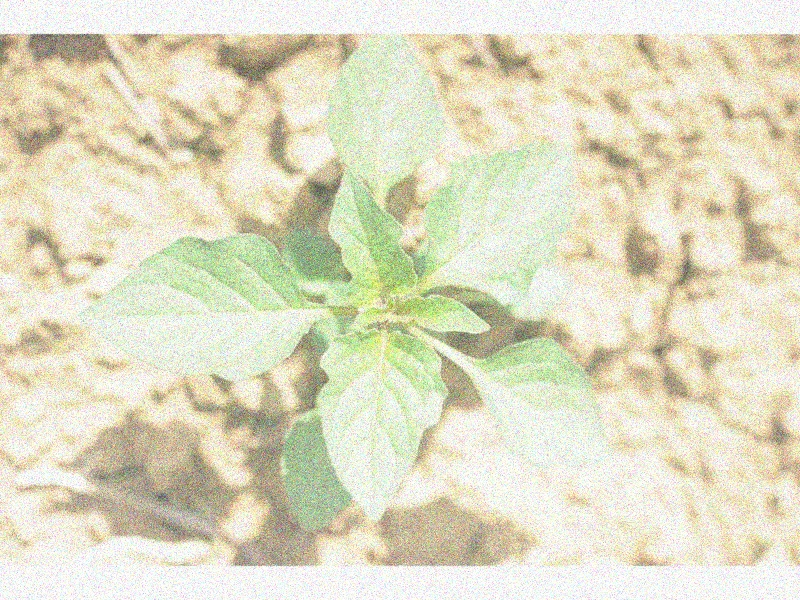nightshade: (80, 34, 618, 533)
